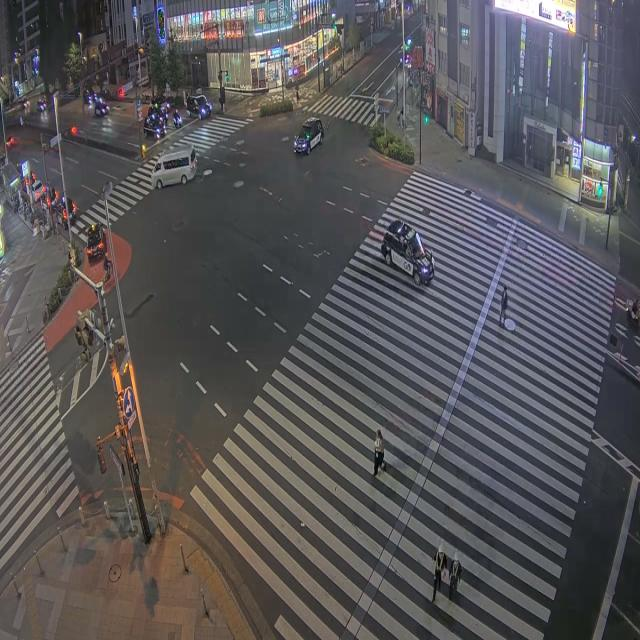car: (381, 221, 434, 286), (294, 118, 323, 153), (86, 224, 105, 260), (186, 96, 212, 119), (55, 203, 76, 228), (143, 117, 166, 139), (59, 196, 77, 224), (148, 103, 168, 124), (32, 180, 46, 202), (94, 97, 109, 116), (47, 183, 58, 205), (83, 89, 95, 105), (37, 97, 47, 111), (19, 99, 29, 110), (7, 136, 16, 147)
motorcycle: (626, 300, 640, 327), (173, 112, 182, 128)
van: (151, 147, 196, 188)
